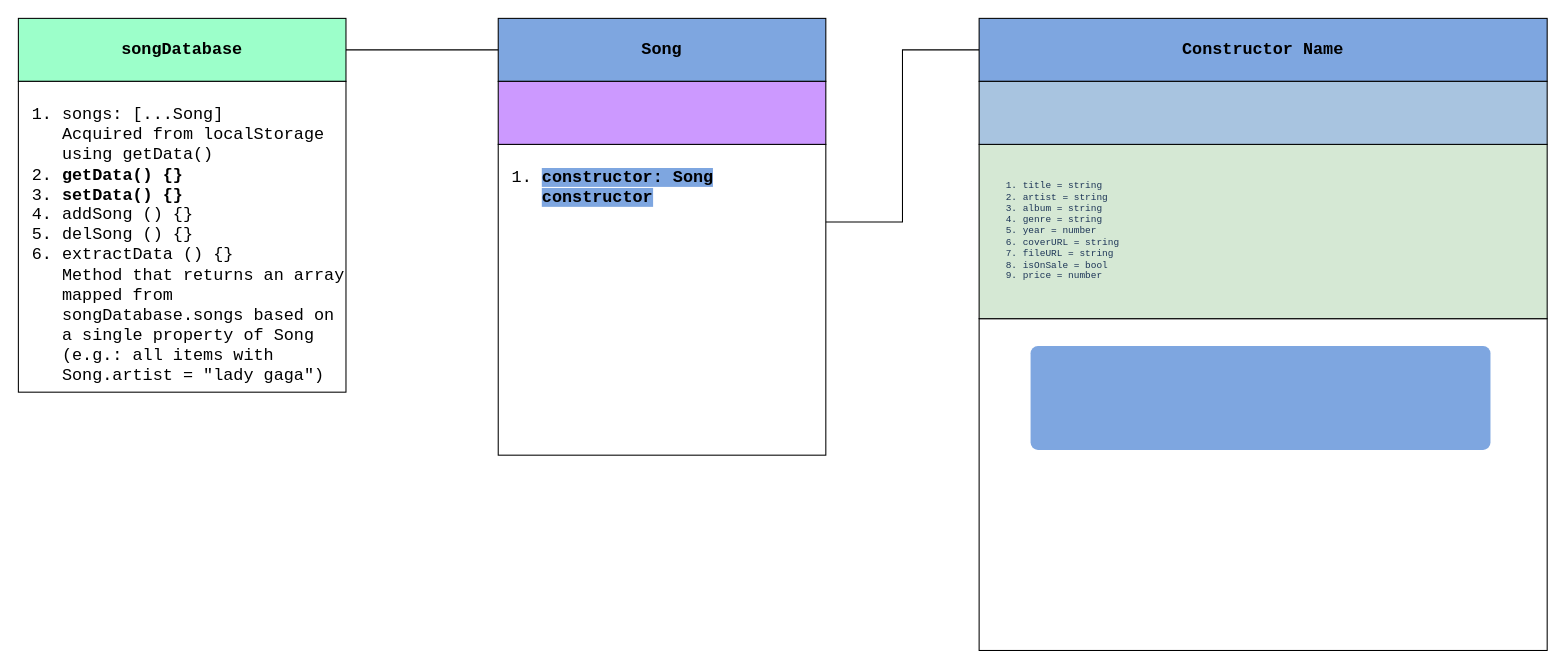
Some shapes in this 1566 by 669 pixel diagram are drawn without their labels. Each missing label, with the centre of its shape:
Desc: point 1262,112
For all params make the property with this.paramName = param: point 1260,397
PROTOTYPE: point 661,112
